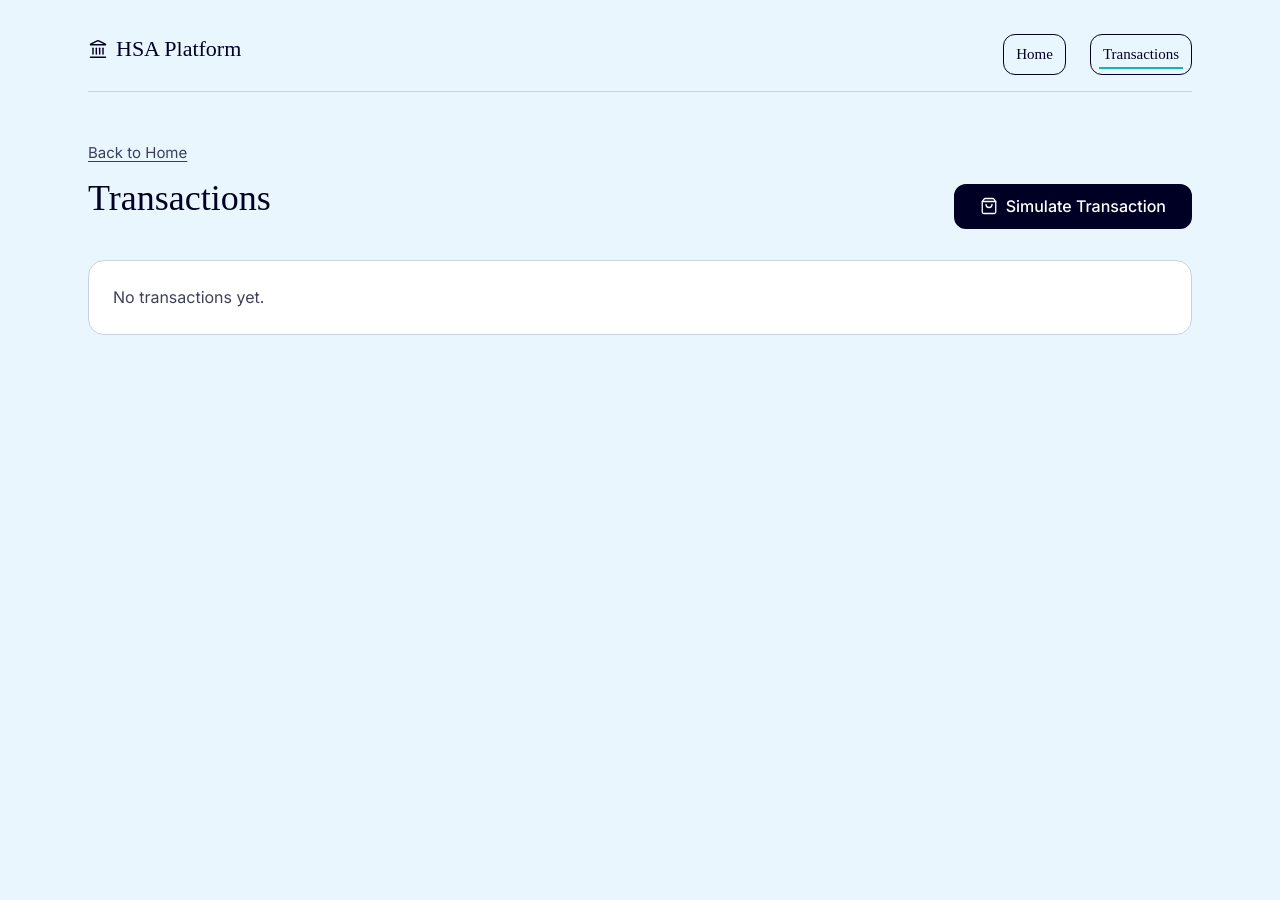
Test: application routes › opens the global simulator from the transactions page action
The width and height of the screenshot is (1280, 900).
Check: the heading "Transactions" is shown, box top-left (88, 176), bottom-right (271, 220)
Step 1. Click the button "Simulate Transaction" → (1073, 206), box top-left (954, 184), bottom-right (1192, 228)
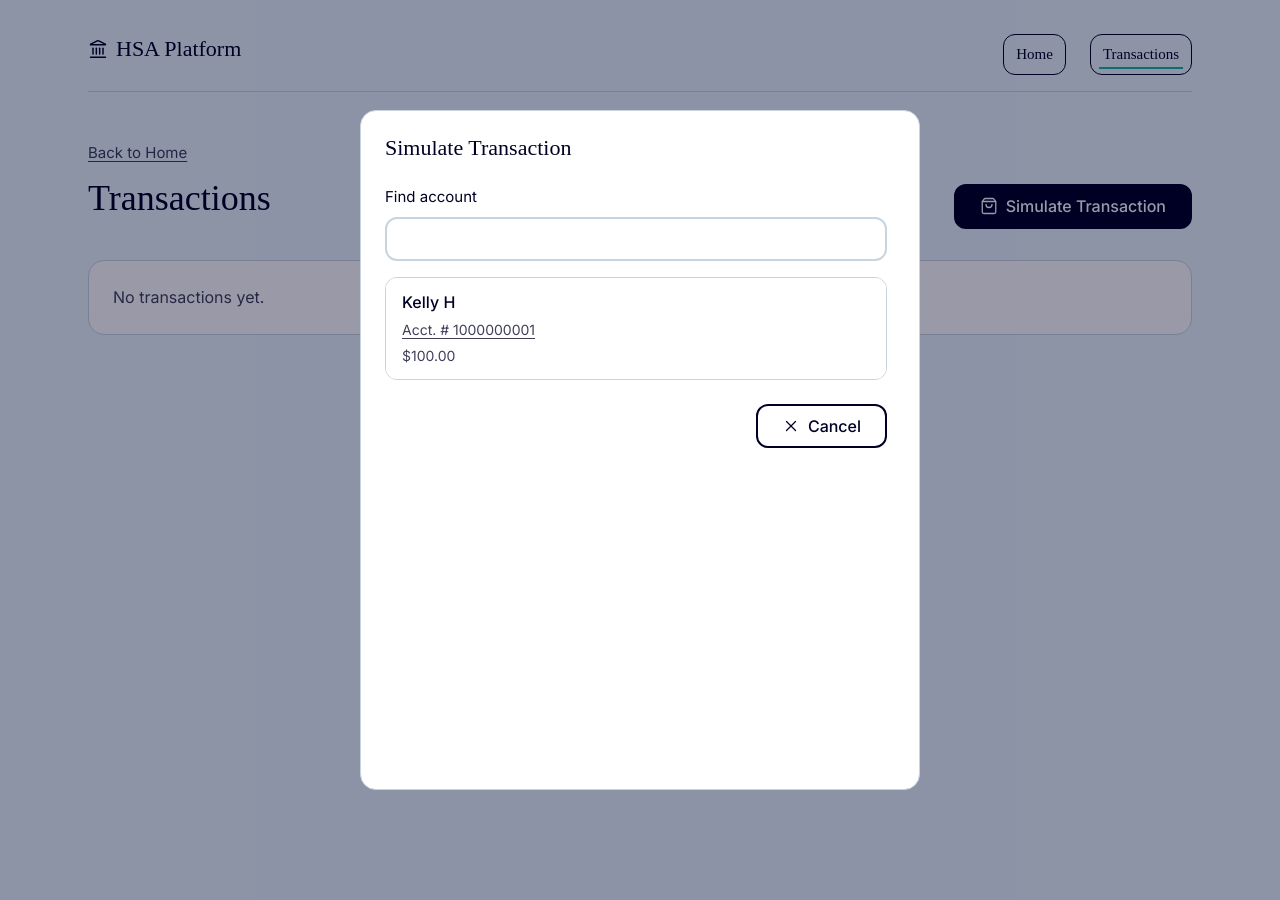
Check: the heading "Simulate Transaction" is shown, box top-left (385, 135), bottom-right (571, 160)
